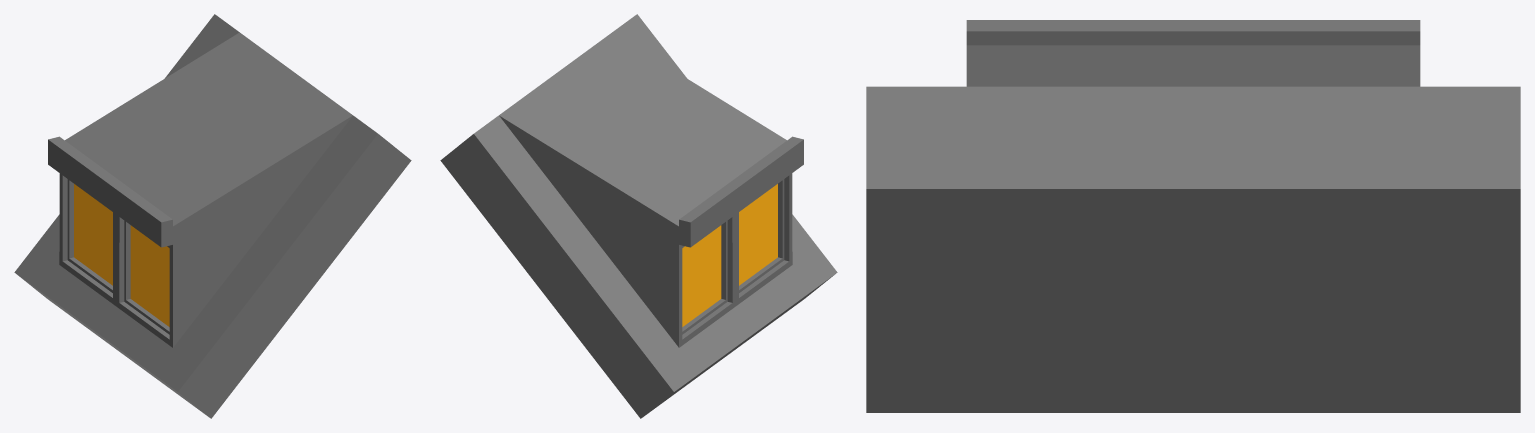
File: O_Toit_Chien_Coucher.fbx
3 views of the same model, side by side, from view 1: azimuth 30°, elevation 25°; view 2: azimuth 150°, elevation 25°; view 3: azimuth 270°, elevation 25° (orthographic). The views are drawn at different scales.
Parts seen in each view (by area): view 1: O_Toit_Chien_Couché001; view 2: O_Toit_Chien_Couché001; view 3: O_Toit_Chien_Couché001.
Boxes of the visible parts, box(x1,y1,x2,y2) form: O_Toit_Chien_Couché001: box(14, 14, 411, 418); O_Toit_Chien_Couché001: box(440, 14, 837, 418); O_Toit_Chien_Couché001: box(866, 20, 1520, 412).
Size of the model in its own units: 2.47 by 3 by 2.47.
